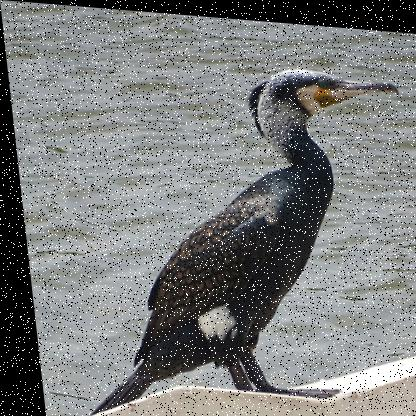Burung: (45, 46, 415, 415)
